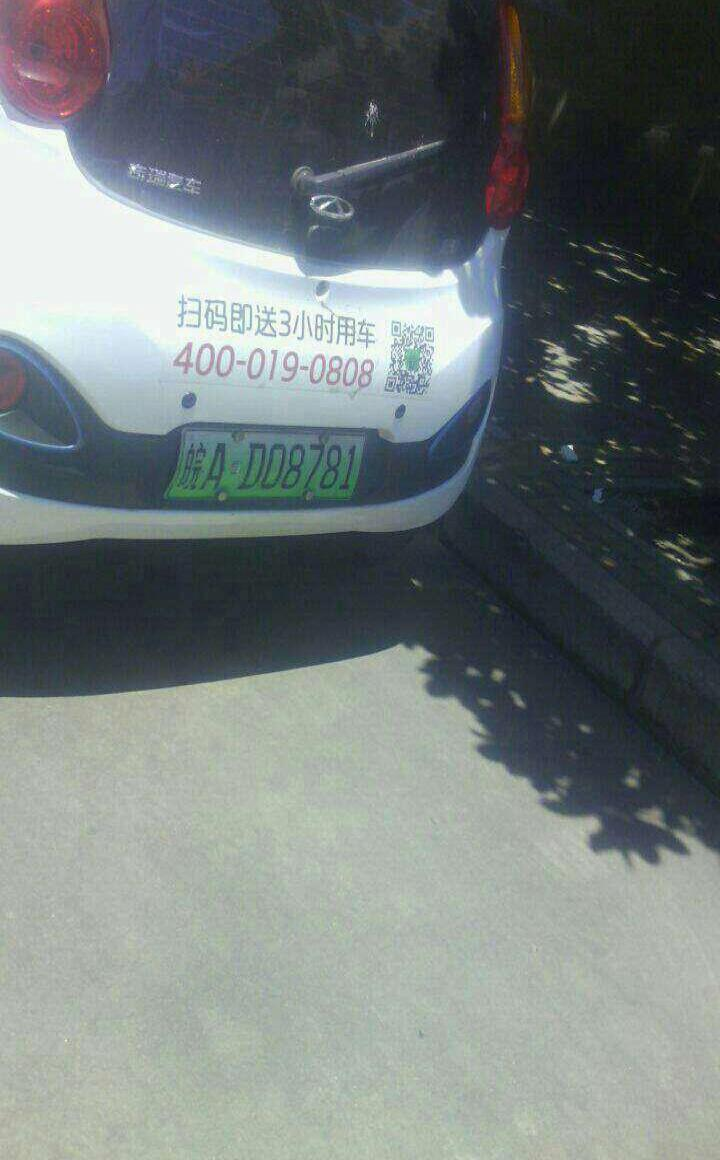car_id: (161, 426, 367, 504)
